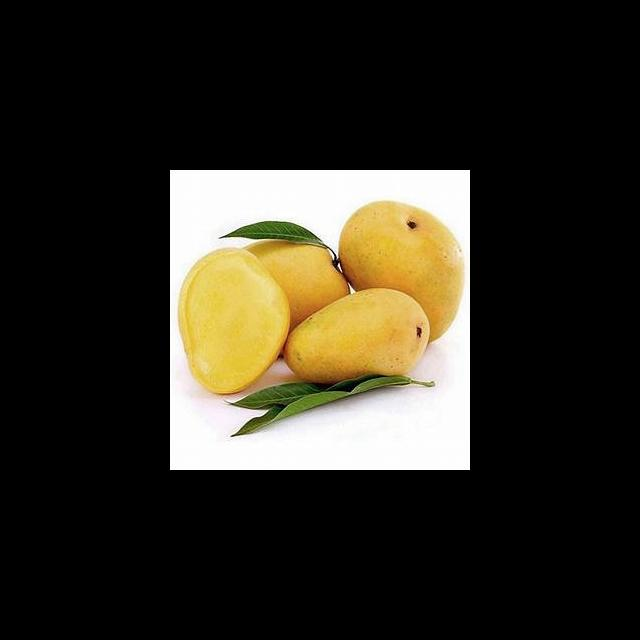mango: (339, 202, 464, 341), (178, 248, 290, 394), (284, 289, 430, 383), (245, 240, 348, 331)
